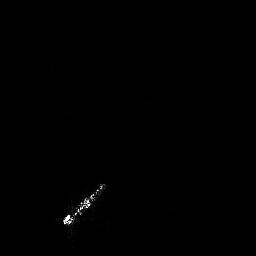ship: (62, 181, 109, 228)
